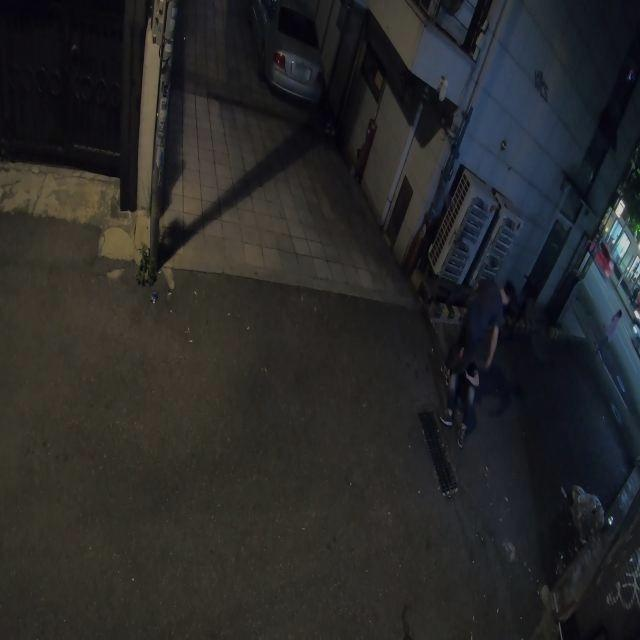fight: (437, 276, 514, 447)
